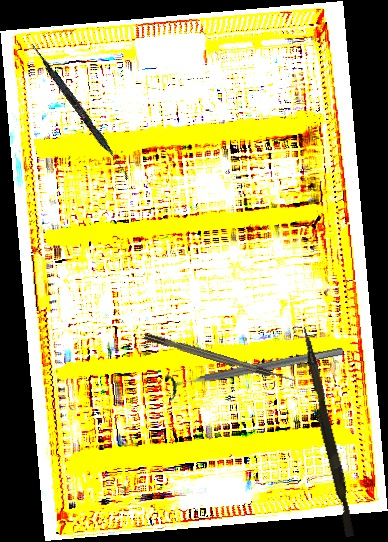Fixation Ring: (164, 337, 346, 403)
Hook Surgical: (143, 331, 297, 386)
Pusher: (294, 326, 360, 538)
Spatula Surgical: (27, 42, 134, 181)
